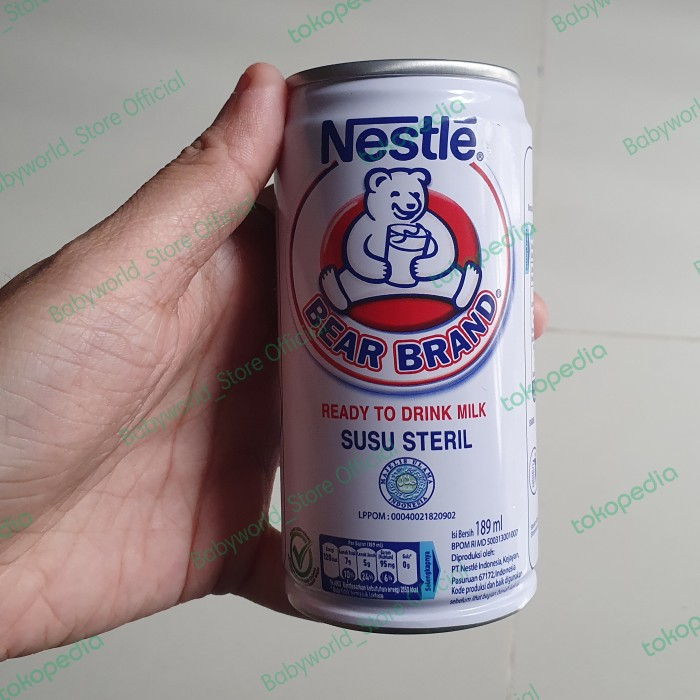Bear Brand Susu Steril (189ml): (249, 49, 554, 637)
